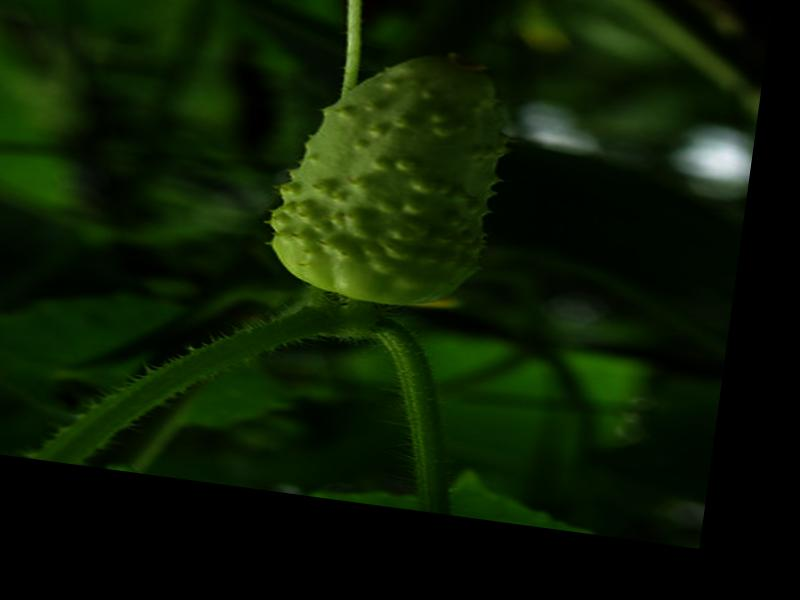Cucumber: (259, 28, 514, 317)
